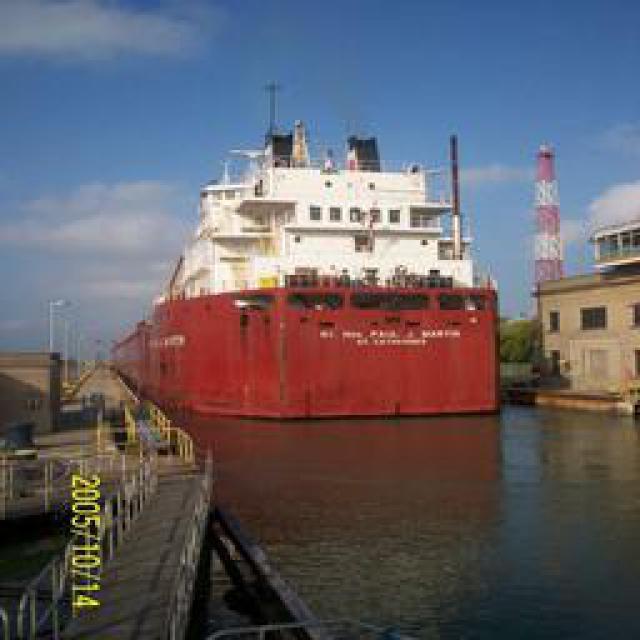Ship: (117, 90, 505, 430)
